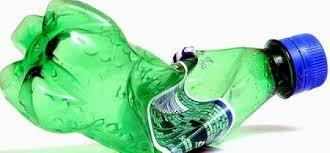plastic: (0, 0, 321, 152)
